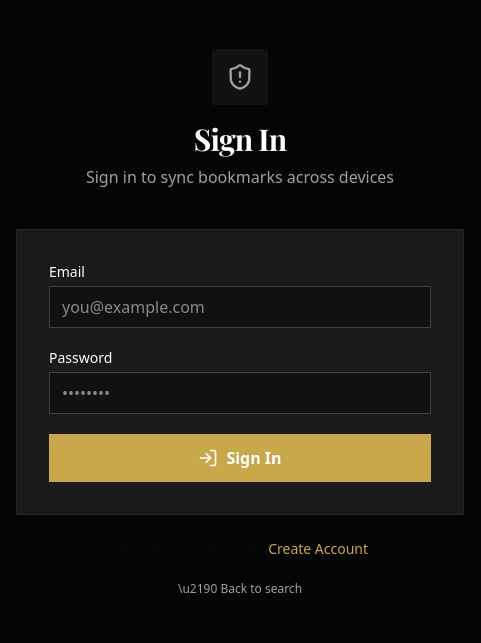
Test case: AuthPage › success message displays on sign-up
// Switch to sign up
Click the button "Create Account" at (318,549), box [268,539,368,559]
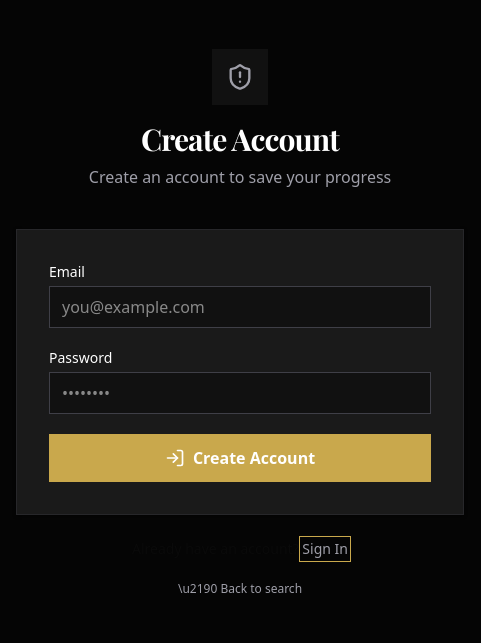
Type "new@test.com" into the field with placeholder "you@example.com" at (240,307), box [49,286,431,328]
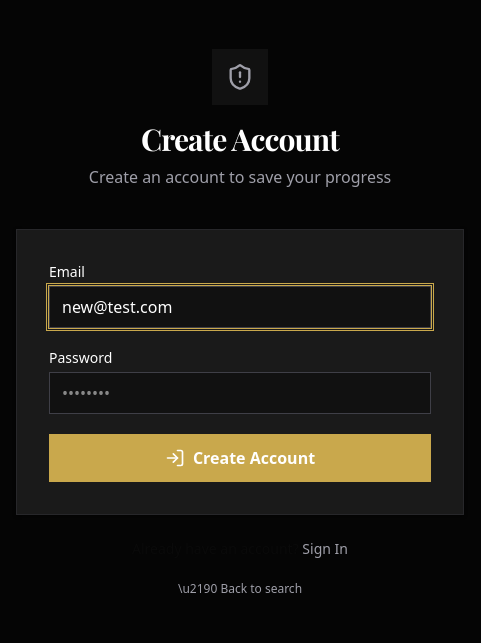
Type "password123" into the password field with placeholder "••••••••" at (240,393), box [49,372,431,414]
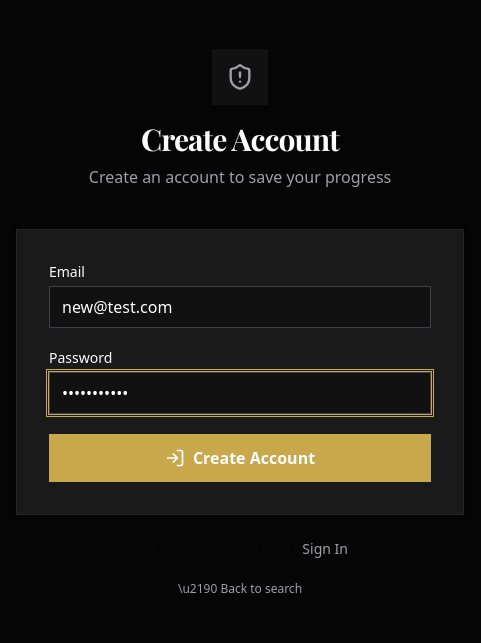
Click the button "Create Account" at (240,458), box [49,434,431,482]
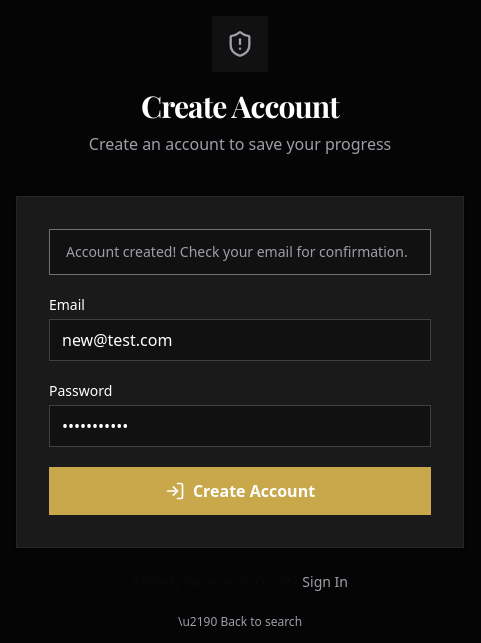
expect the text "Account created! Check your email for confirmation." is shown: met, box [49,229,431,275]
